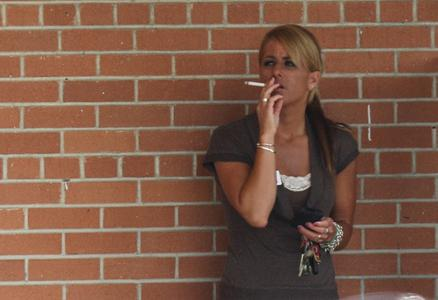person: (200, 25, 360, 300)
